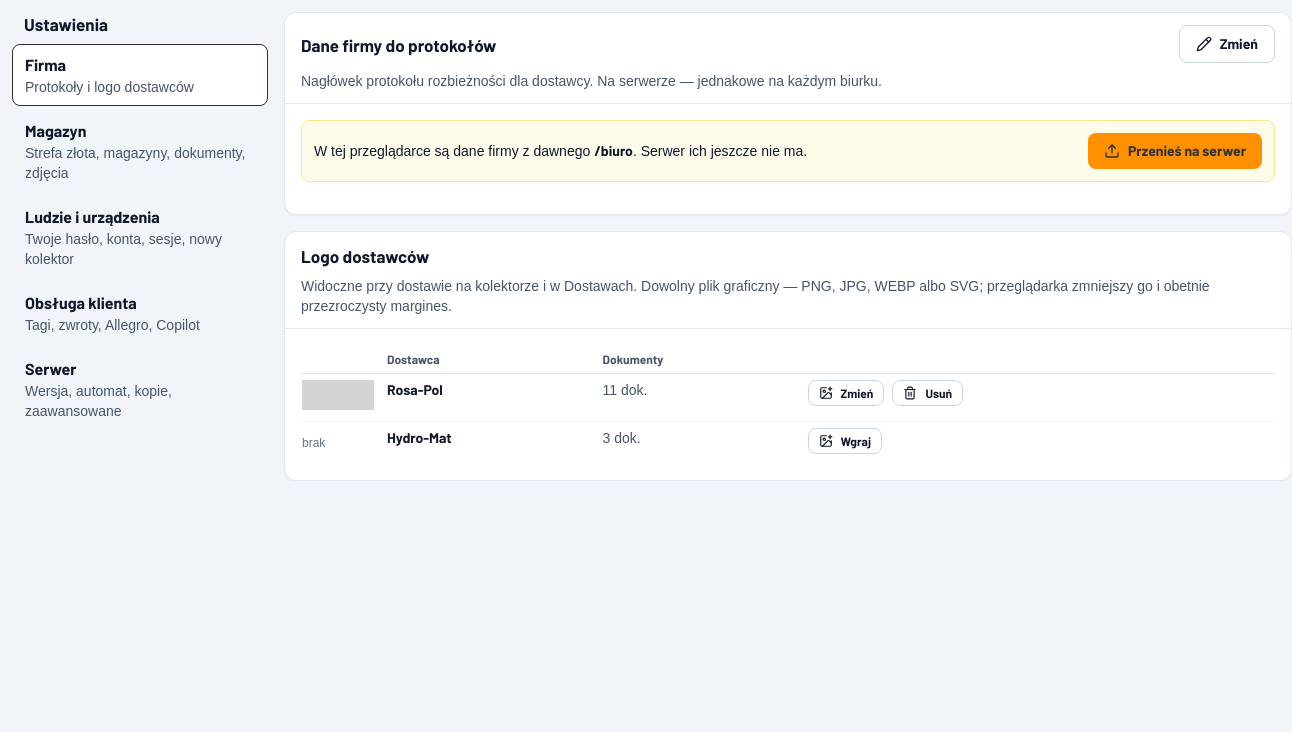
it: Ustawienia w panelu › przeniesienie z przeglądarki: tylko przy pustym serwerze, jednym kliknięciem
Click the button "Przenieś na serwer".
click(1175, 151)  # box top-left (1088, 133), bottom-right (1262, 169)
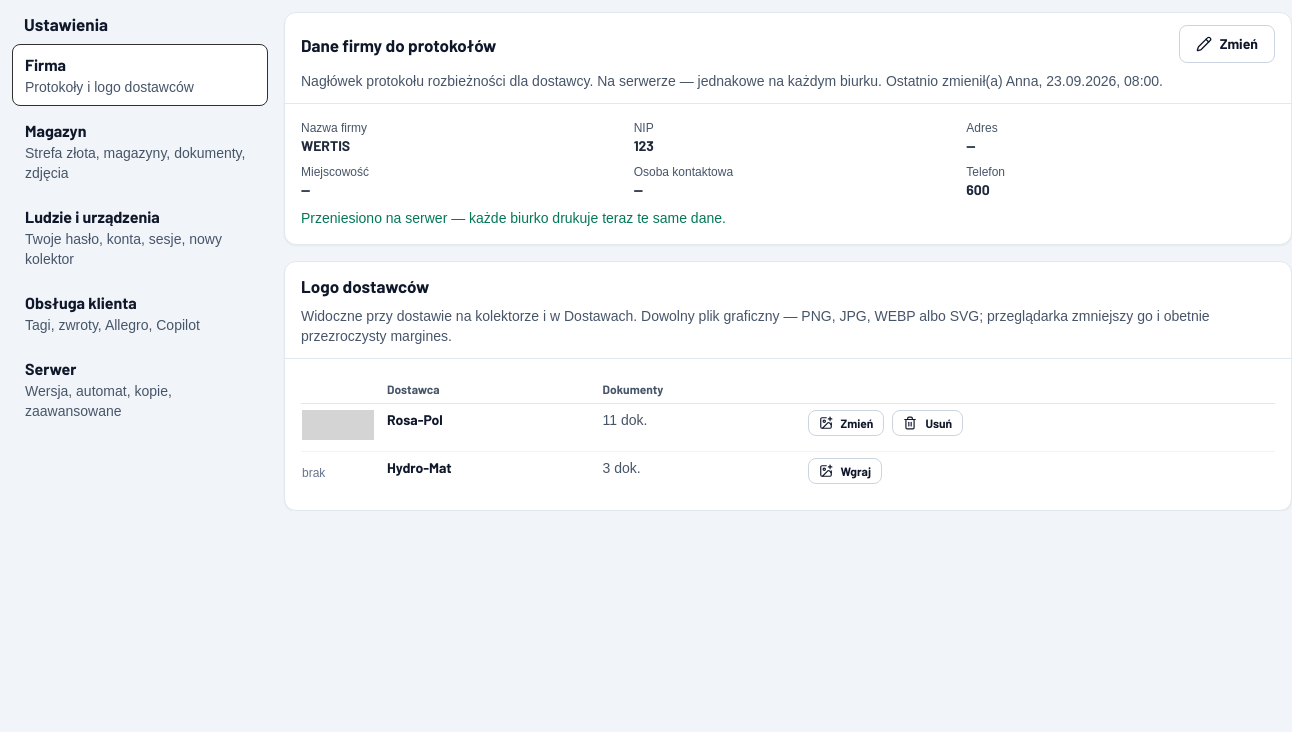
Expected: the button "Przenieś na serwer" is gone
Expected: the text "WERTIS" is shown, top-left (301, 137), bottom-right (350, 154)
